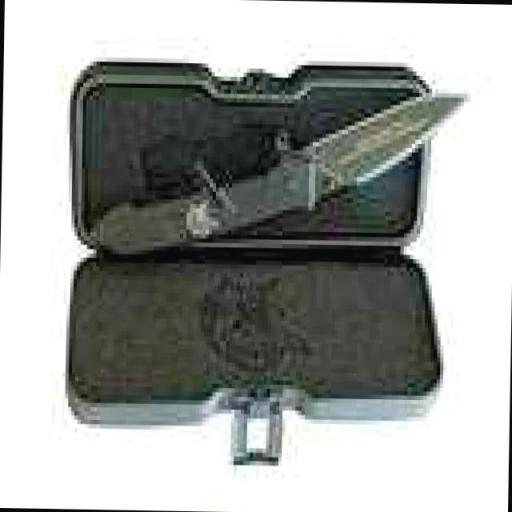knife: (67, 73, 480, 253)
